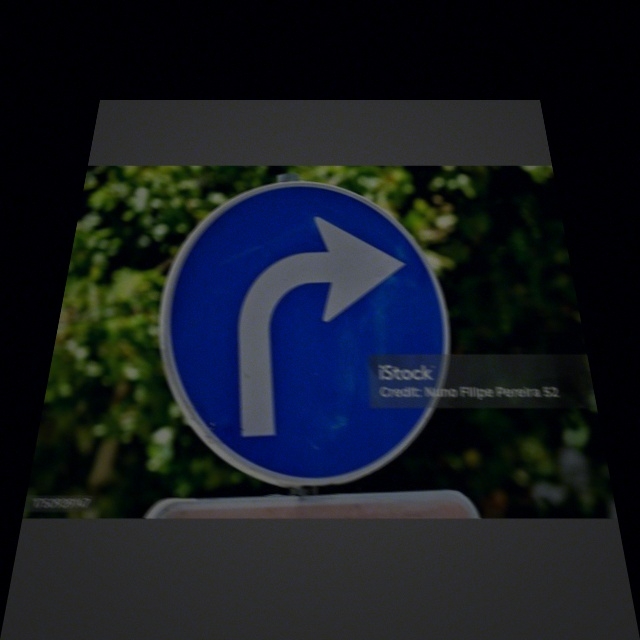Compulsory_Turn_Right_Ahead: (151, 181, 456, 471)
